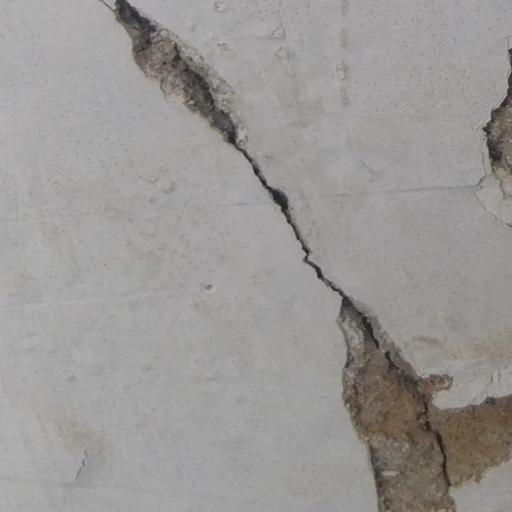major_crack: (109, 0, 512, 512)
